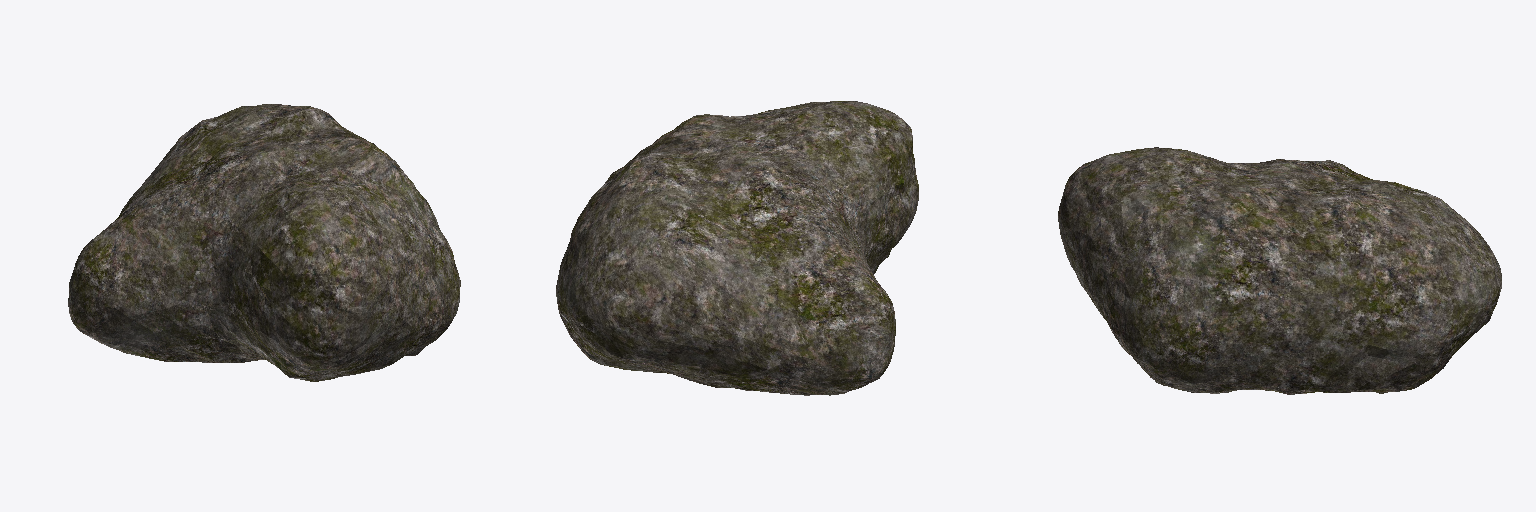
The picture shows the model from 3 angles: view 1: azimuth 30°, elevation 25°; view 2: azimuth 150°, elevation 25°; view 3: azimuth 270°, elevation 25°; orthographic projection.
Parts seen in each view (by area): view 1: Stone; view 2: Stone; view 3: Stone.
Part boxes in pixels (left/top/right/bottom): Stone: left=68, top=104, right=460, bottom=381; Stone: left=556, top=101, right=918, bottom=395; Stone: left=1058, top=147, right=1501, bottom=394.
Bounding box in the file's own units: 1.65 × 1.08 × 2.08.
1 materials, 1 textured.